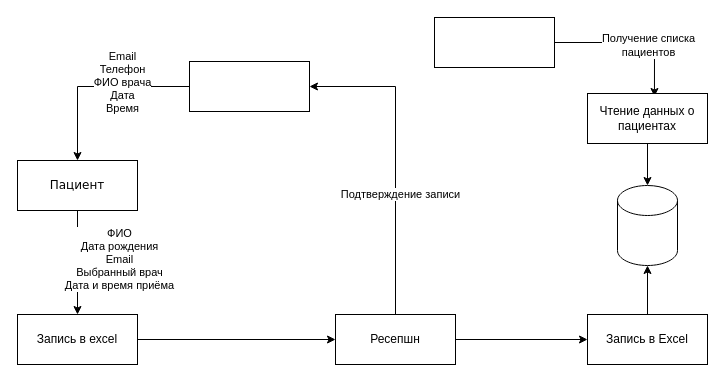
Image size: 725x382. Some labels were removed from this diagram. Each missing label, with the box of its shape:
Excel: (616, 184, 678, 266)
Врач: (434, 16, 554, 68)
Оповещение пациента: (188, 60, 310, 112)
